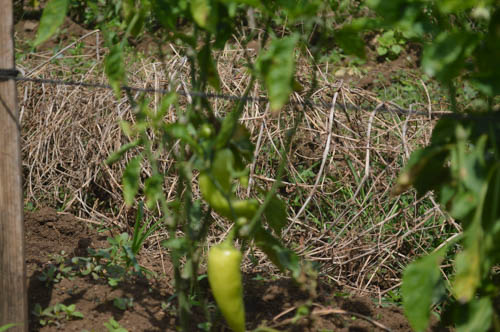ChiliPepper: (209, 244, 244, 325)
